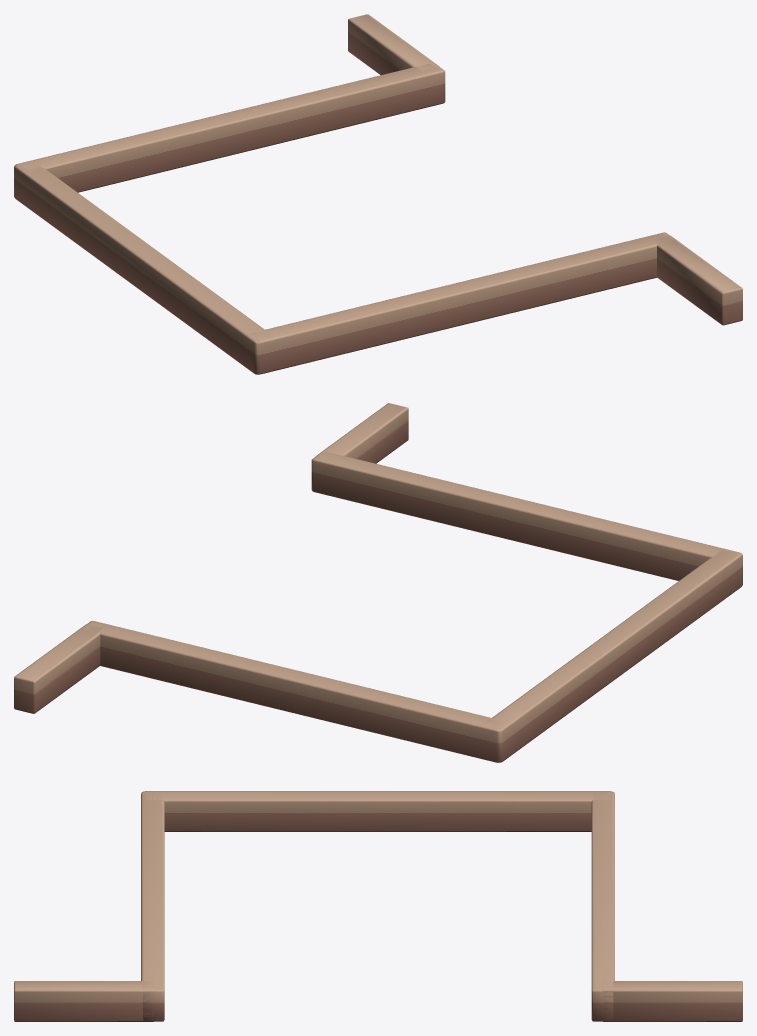
Rendered from Props.fbx.
3 views of the same model, one above another, from view 1: azimuth 30°, elevation 25°; view 2: azimuth 150°, elevation 25°; view 3: azimuth 270°, elevation 25° (orthographic). The views are drawn at different scales.
Parts seen in each view (by area): view 1: Box20-3_1 (1), Box20-3_1 (2), Box20-3_1, Box20-3_1 (3), Box20-3_1 (4); view 2: Box20-3_1 (2), Box20-3_1 (1), Box20-3_1, Box20-3_1 (4), Box20-3_1 (3); view 3: Box20-3_1, Box20-3_1 (3), Box20-3_1 (4), Box20-3_1 (2), Box20-3_1 (1).
Part boxes in pixels (bbox=[...]): Box20-3_1 (1): bbox=[250, 232, 672, 374]; Box20-3_1 (2): bbox=[14, 63, 445, 192]; Box20-3_1: bbox=[14, 163, 272, 374]; Box20-3_1 (3): bbox=[652, 235, 742, 325]; Box20-3_1 (4): bbox=[348, 14, 439, 74]; Box20-3_1 (2): bbox=[84, 621, 503, 762]; Box20-3_1 (1): bbox=[311, 452, 741, 580]; Box20-3_1: bbox=[485, 550, 742, 762]; Box20-3_1 (4): bbox=[14, 624, 103, 713]; Box20-3_1 (3): bbox=[317, 403, 408, 463]; Box20-3_1: bbox=[143, 791, 612, 831]; Box20-3_1 (3): bbox=[14, 981, 154, 1021]; Box20-3_1 (4): bbox=[602, 981, 742, 1021]; Box20-3_1 (2): bbox=[591, 792, 614, 1021]; Box20-3_1 (1): bbox=[141, 792, 164, 1021].
Bounding box in the file's own units: 20.05 × 1.5 × 30.9.
Materials: 1 (1 with a texture image).
